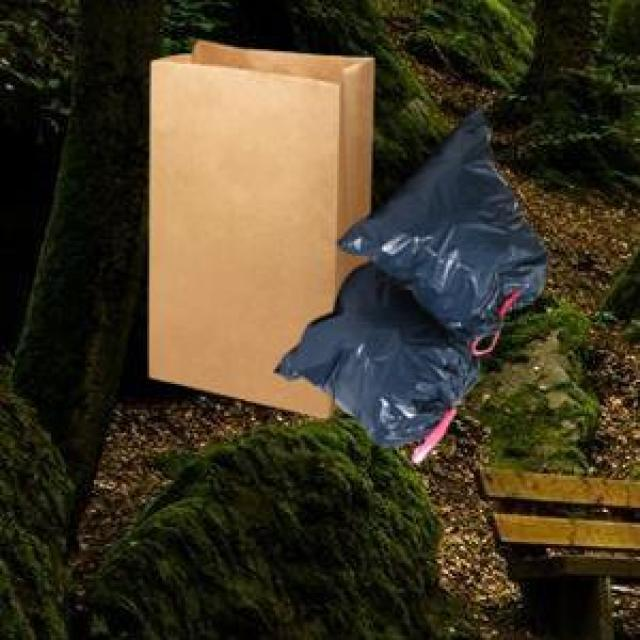miscellaneous trash: (271, 100, 544, 459)
paper: (145, 36, 369, 414)
